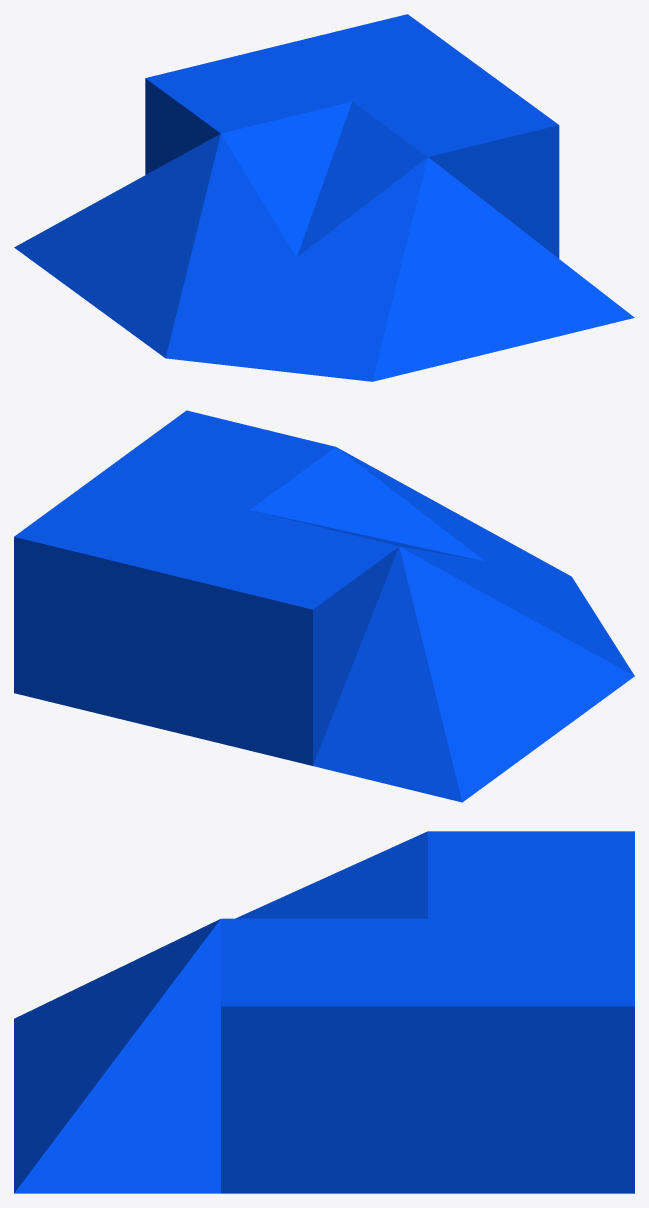
The model's file is COL_Floor-Stairs-Layered-Corner-Concave.FBX.
The picture shows the model from 3 angles, top to bottom: view 1: azimuth 30°, elevation 25°; view 2: azimuth 150°, elevation 25°; view 3: azimuth 270°, elevation 25°; orthographic projection. The views are drawn at different scales.
Visible parts, largest first — view 1: COL_Floor-Stairs-Layered-Corner-Concave; view 2: COL_Floor-Stairs-Layered-Corner-Concave; view 3: COL_Floor-Stairs-Layered-Corner-Concave.
Boxes of the visible parts, bbox=[...] form: COL_Floor-Stairs-Layered-Corner-Concave: bbox=[14, 14, 634, 381]; COL_Floor-Stairs-Layered-Corner-Concave: bbox=[14, 410, 634, 802]; COL_Floor-Stairs-Layered-Corner-Concave: bbox=[14, 831, 634, 1193].
Bounding box in the file's own units: 30 × 10 × 30.
